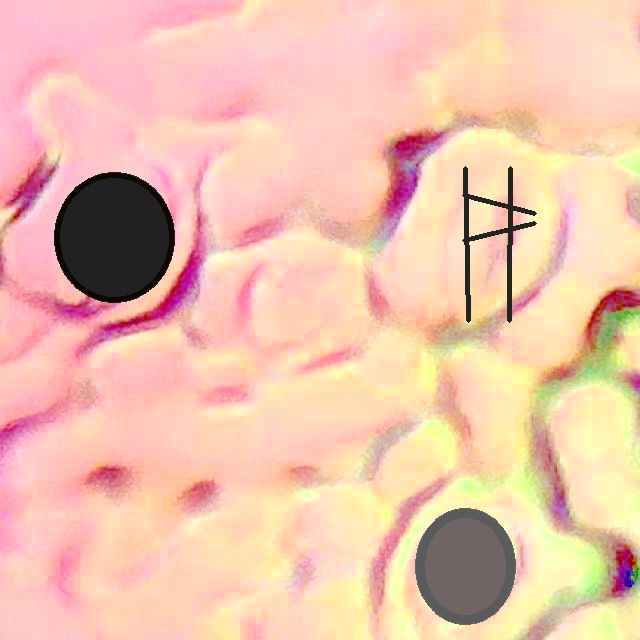close: (55, 172, 174, 302)
open: (416, 508, 515, 624), (462, 166, 535, 321)
